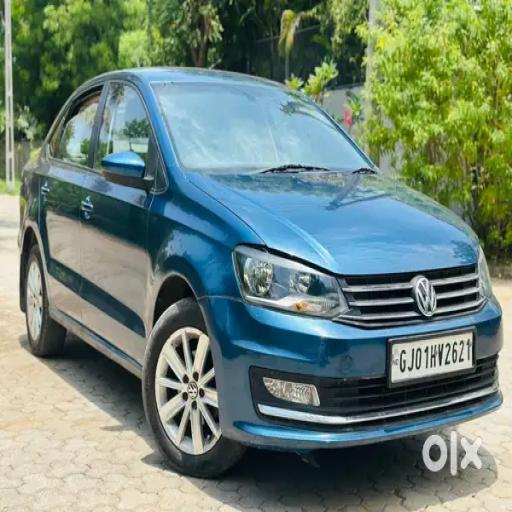License: (387, 331, 479, 383)
